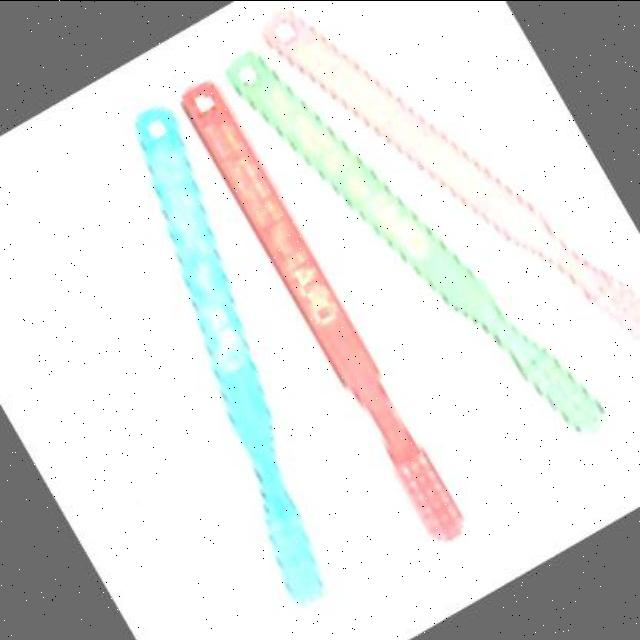toothbrush: (24, 98, 422, 628), (152, 49, 506, 578), (398, 172, 638, 488)
